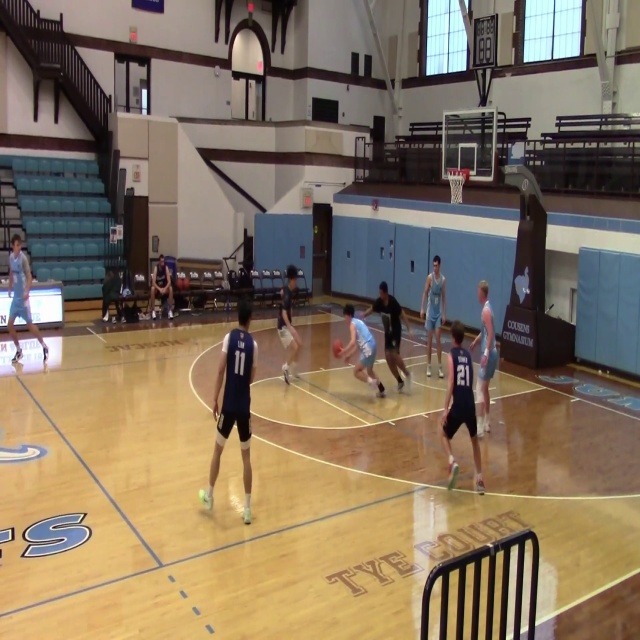Basketball: (278, 326, 294, 350), (332, 339, 343, 357), (198, 489, 206, 502)
